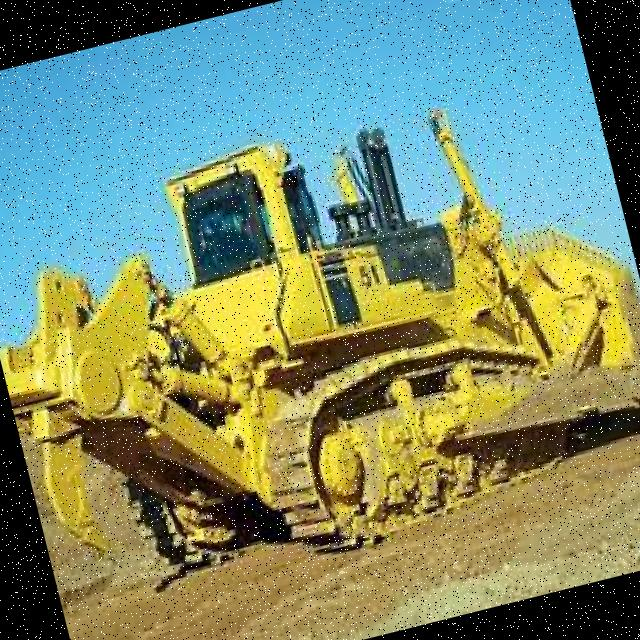Bulldozer: (0, 52, 640, 626)
